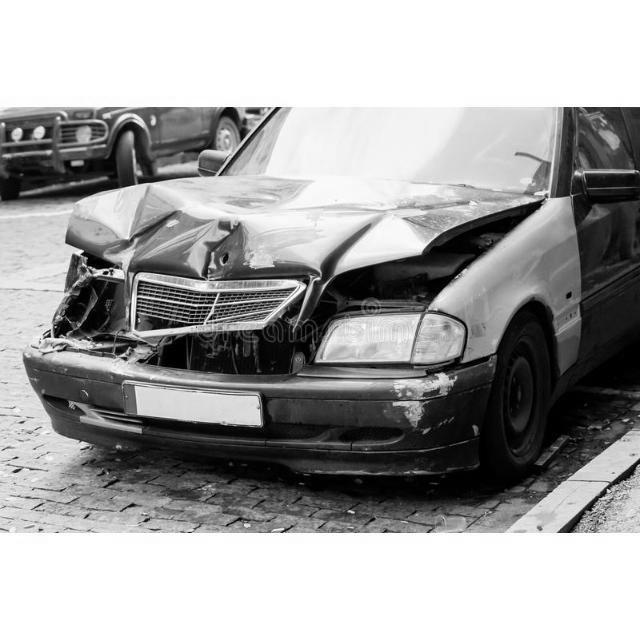bonnet-dent: (64, 146, 519, 298)
front-bumper-dent: (264, 351, 528, 491)
